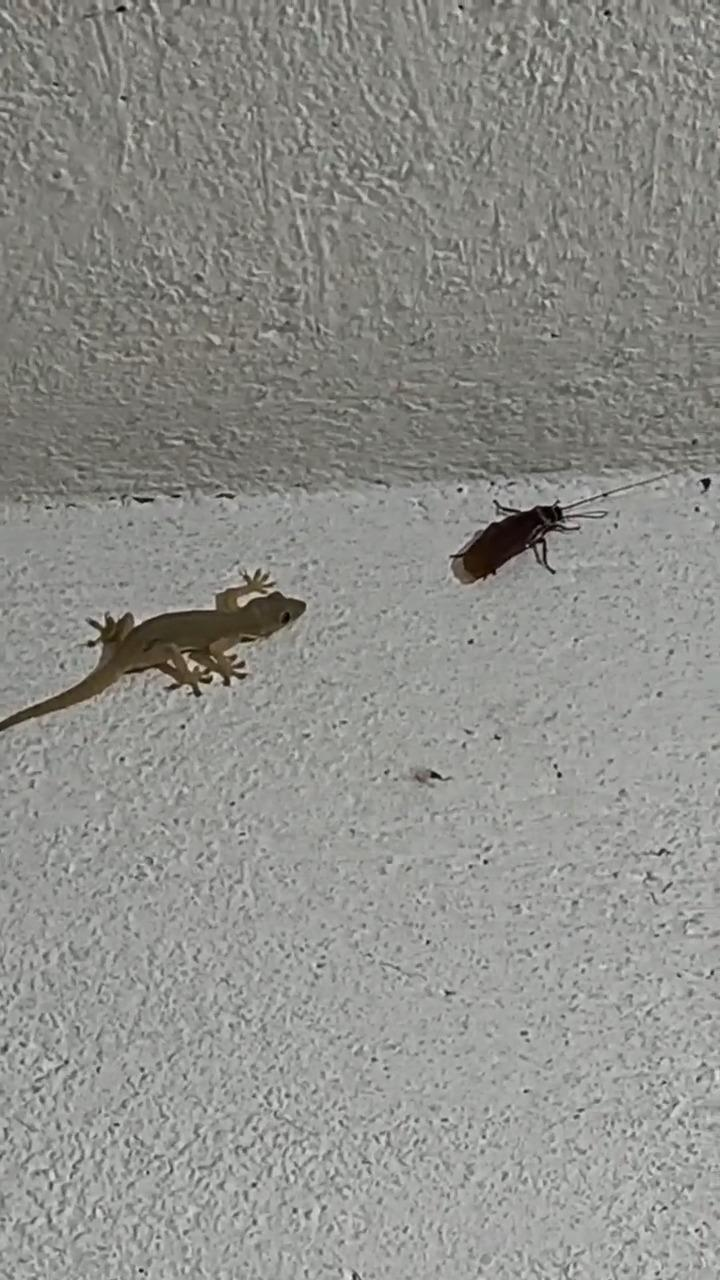cockroach: (413, 478, 631, 590)
lizard: (0, 550, 315, 738)
